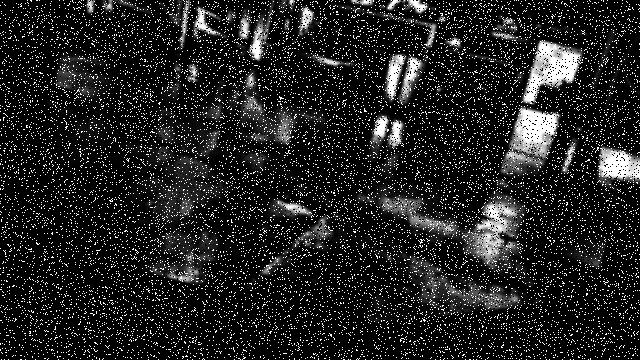pot: (596, 179, 640, 297), (25, 11, 66, 101)
